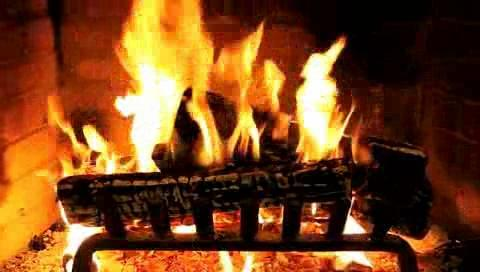fire: (70, 2, 367, 175)
